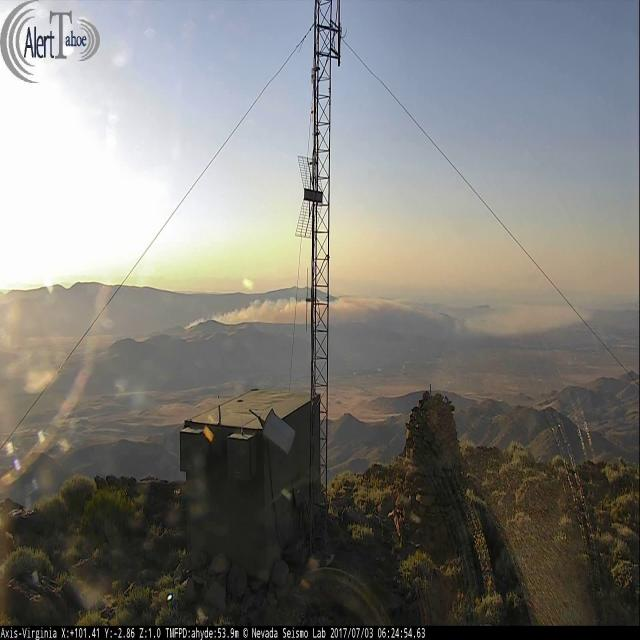smoke: (180, 290, 596, 341)
